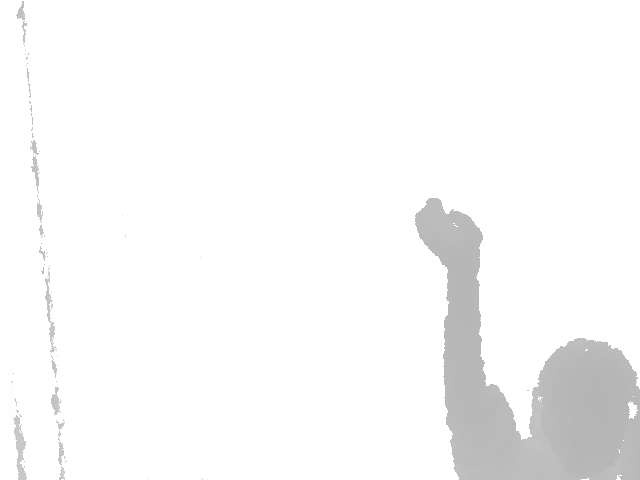hand: (413, 197, 484, 273)
head: (532, 338, 639, 473)
person: (412, 197, 640, 480)
